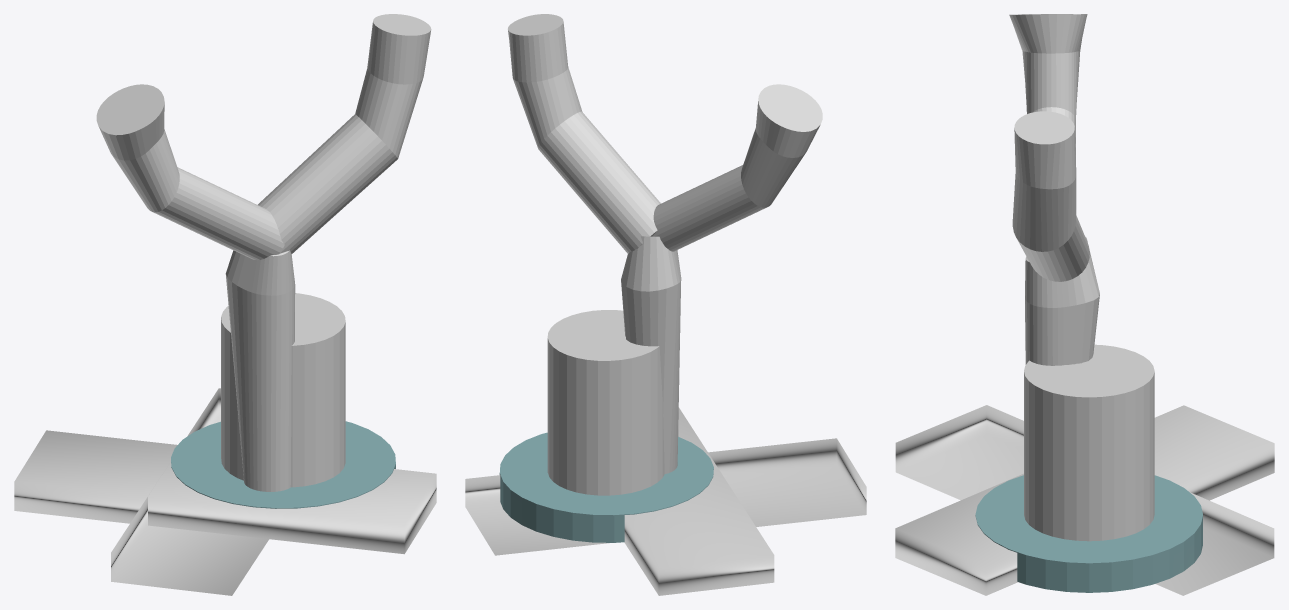
Rendered from slingshot3.glb.
3 renders of one model, left to right at view 1: azimuth 30°, elevation 25°; view 2: azimuth 150°, elevation 25°; view 3: azimuth 270°, elevation 25°, orthographic. The views are drawn at different scales.
Visible parts, largest first — view 1: Cube, Cylinder.003, Cylinder.002, Cylinder.004, Cylinder.001, Cylinder.005; view 2: Cube, Cylinder.001, Cylinder.003, Cylinder.004, Cylinder.005, Cylinder.002; view 3: Cube, Cylinder.001, Cylinder.005, Cylinder.003, Cylinder.002, Cylinder.004.
Boxes of the visible parts, bbox=[...] form: Cube: bbox=[14, 388, 436, 595]; Cylinder.003: bbox=[258, 14, 431, 253]; Cylinder.002: bbox=[225, 250, 295, 491]; Cylinder.004: bbox=[96, 84, 284, 260]; Cylinder.001: bbox=[221, 293, 345, 487]; Cylinder.005: bbox=[171, 421, 395, 508]; Cube: bbox=[465, 407, 866, 595]; Cylinder.001: bbox=[547, 310, 664, 495]; Cylinder.003: bbox=[508, 14, 660, 253]; Cylinder.004: bbox=[652, 84, 822, 251]; Cylinder.005: bbox=[499, 432, 713, 542]; Cylinder.002: bbox=[621, 236, 681, 473]; Cube: bbox=[895, 405, 1274, 595]; Cylinder.001: bbox=[1024, 344, 1154, 541]; Cylinder.005: bbox=[975, 475, 1202, 592]; Cylinder.003: bbox=[1012, 111, 1089, 281]; Cylinder.002: bbox=[1025, 236, 1099, 365]; Cylinder.004: bbox=[1009, 14, 1087, 214].
Bounding box in the file's own units: 6.33 × 8.12 × 5.94.
